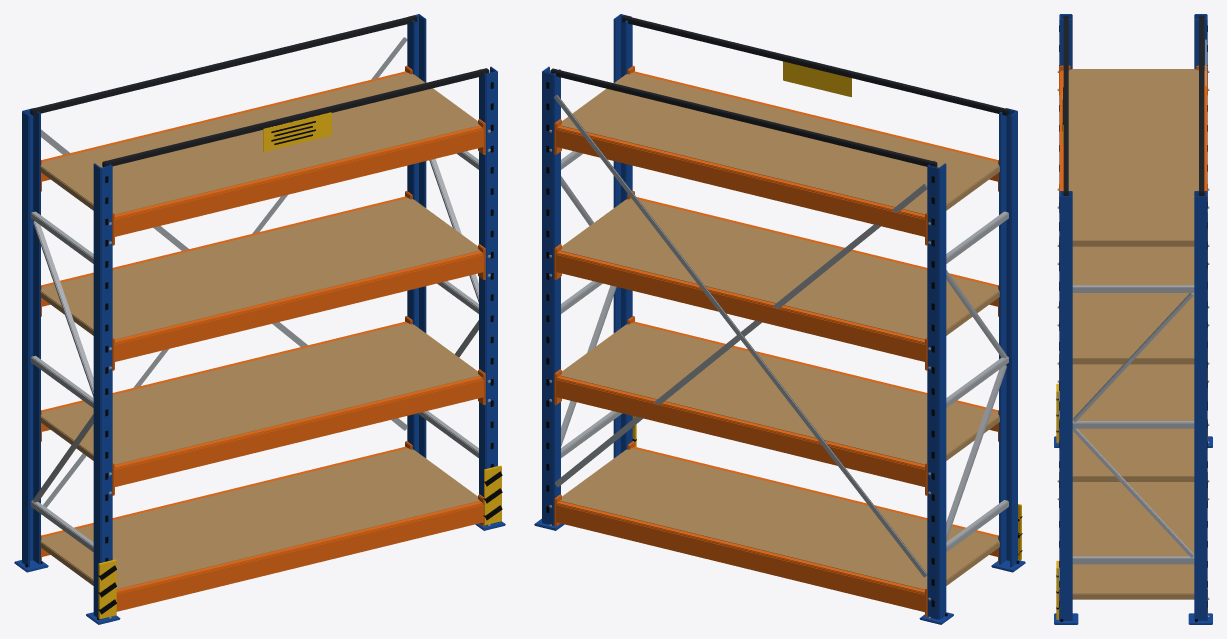
The model's file is shelf_heavy.glb.
3 renders of one model, left to right at view 1: azimuth 30°, elevation 25°; view 2: azimuth 150°, elevation 25°; view 3: azimuth 270°, elevation 25°, orthographic. The views are drawn at different scales.
Parts seen in each view (by area): view 1: PC_Chip, PC_Orange, PC_Blue, PC_Galv, PC_Dark, PC_Yellow, PC_Black; view 2: PC_Chip, PC_Orange, PC_Blue, PC_Galv, PC_Dark, PC_Yellow, PC_Black; view 3: PC_Chip, PC_Blue, PC_Galv, PC_Dark, PC_Orange, PC_Black, PC_Yellow.
Boxes of the visible parts, x1,y1,x2,y2 form: PC_Chip: (40, 73, 479, 589); PC_Orange: (41, 65, 485, 616); PC_Blue: (14, 14, 505, 624); PC_Galv: (31, 37, 490, 618); PC_Dark: (30, 15, 489, 166); PC_Yellow: (98, 112, 501, 618); PC_Black: (25, 82, 502, 619); PC_Chip: (560, 73, 999, 589); PC_Orange: (554, 65, 998, 616); PC_Blue: (534, 14, 1025, 624); PC_Galv: (549, 94, 1008, 618); PC_Dark: (550, 15, 1009, 166); PC_Yellow: (632, 61, 1021, 560); PC_Black: (546, 82, 1022, 616); PC_Chip: (1068, 69, 1198, 599); PC_Blue: (1054, 14, 1212, 624); PC_Galv: (1057, 39, 1209, 616); PC_Dark: (1063, 15, 1204, 195); PC_Orange: (1059, 65, 1207, 614); PC_Black: (1056, 25, 1207, 621); PC_Yellow: (1056, 92, 1063, 619).
Bounding box in the file's own units: 2.01 × 2.16 × 0.722.
